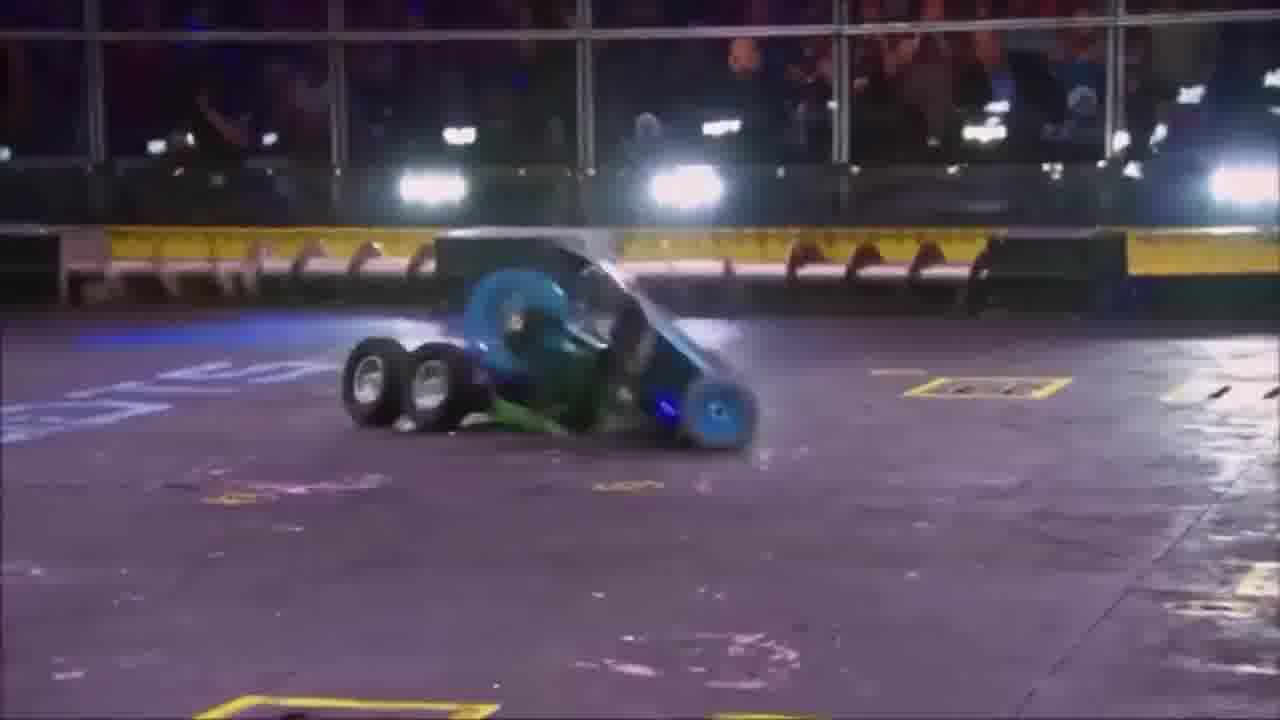combatbot: (455, 246, 759, 451), (339, 337, 604, 434)
